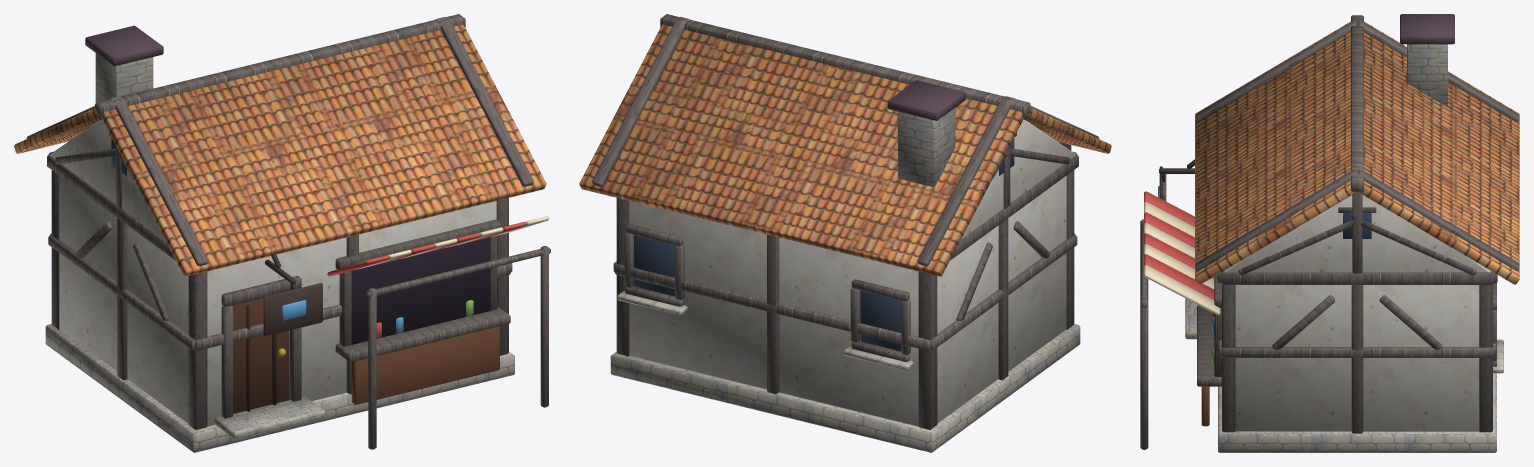
The model's file is shop.gltf.
The picture shows the model from 3 angles, left to right: view 1: azimuth 30°, elevation 25°; view 2: azimuth 150°, elevation 25°; view 3: azimuth 270°, elevation 25°; orthographic projection. The views are drawn at different scales.
Parts seen in each view (by area): view 1: shop; view 2: shop; view 3: shop.
Boxes of the visible parts, <box> form: shop: <box>14,14,550,452</box>; shop: <box>579,14,1111,452</box>; shop: <box>1140,14,1519,452</box>.
Size of the model in its own units: 6.78 by 5.68 by 6.5.
Materials: 5 (5 with a texture image).
